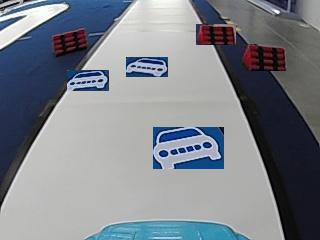bomb: (52, 26, 86, 55)
